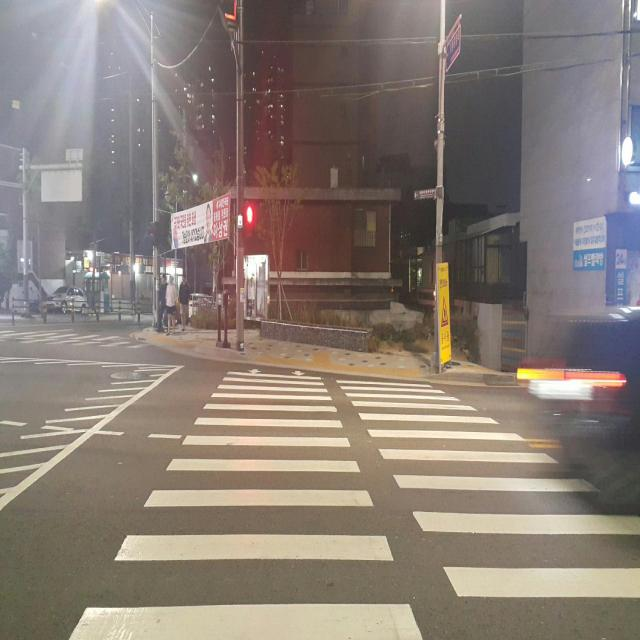빨간불: (244, 202, 257, 241)
횡단보도: (64, 365, 639, 640), (0, 326, 148, 353)
